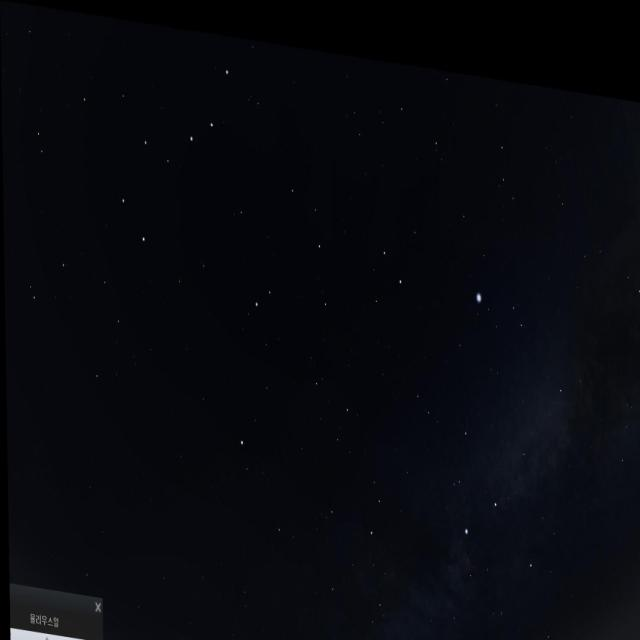cygnus: (442, 328, 576, 582)
lyra: (472, 260, 528, 326)
ursa_major: (119, 23, 238, 249)
